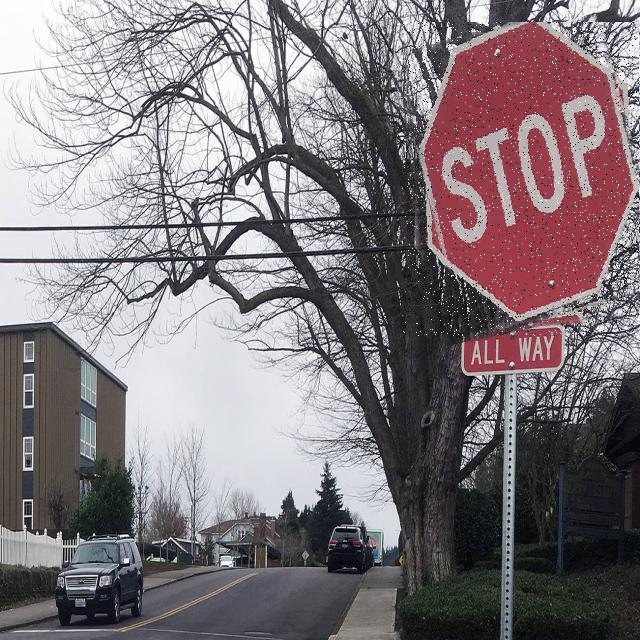stop: (402, 22, 639, 336)
